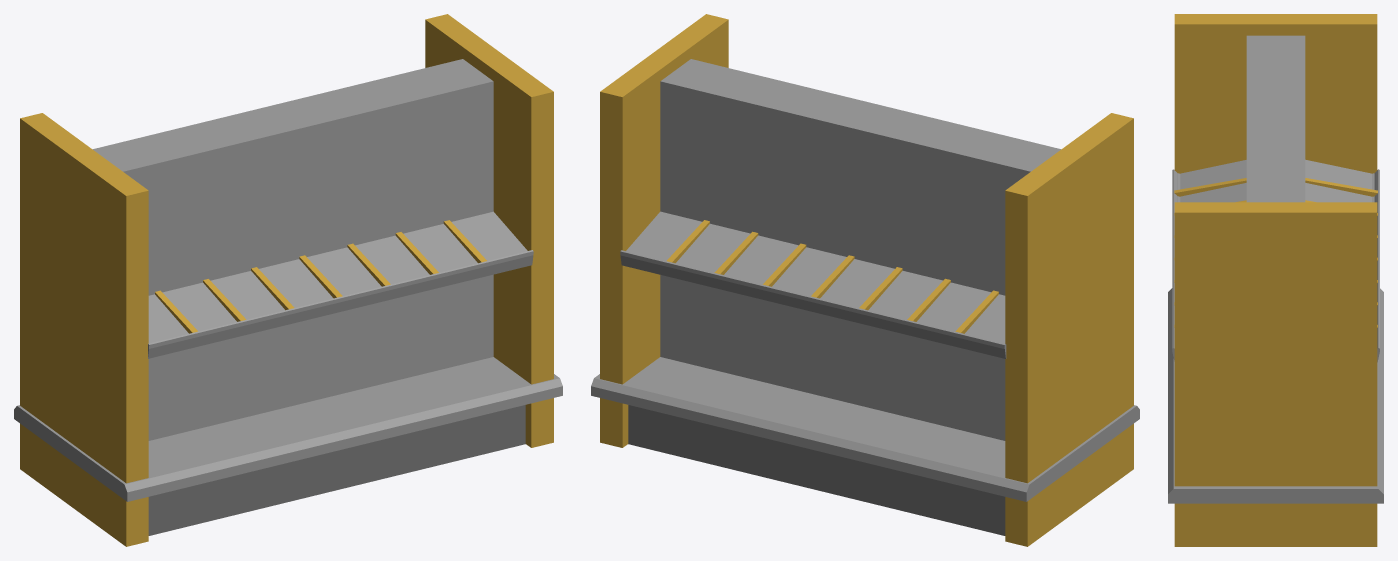
The model's file is ShelfSmall2.fbx.
3 renders of one model, left to right at view 1: azimuth 30°, elevation 25°; view 2: azimuth 150°, elevation 25°; view 3: azimuth 270°, elevation 25°, orthographic. The views are drawn at different scales.
Parts seen in each view (by area): view 1: Base.001; view 2: Base.001; view 3: Base.001.
Part boxes in pixels (<box>): Base.001: <box>14,14,562,546</box>; Base.001: <box>591,14,1139,546</box>; Base.001: <box>1168,14,1383,546</box>.
Size of the model in its own units: 282 by 217 by 127.
